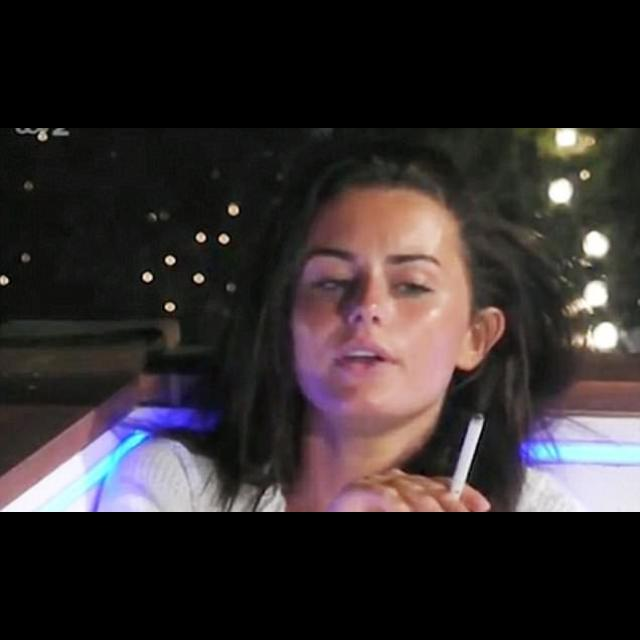rokok: (454, 411, 484, 487)
